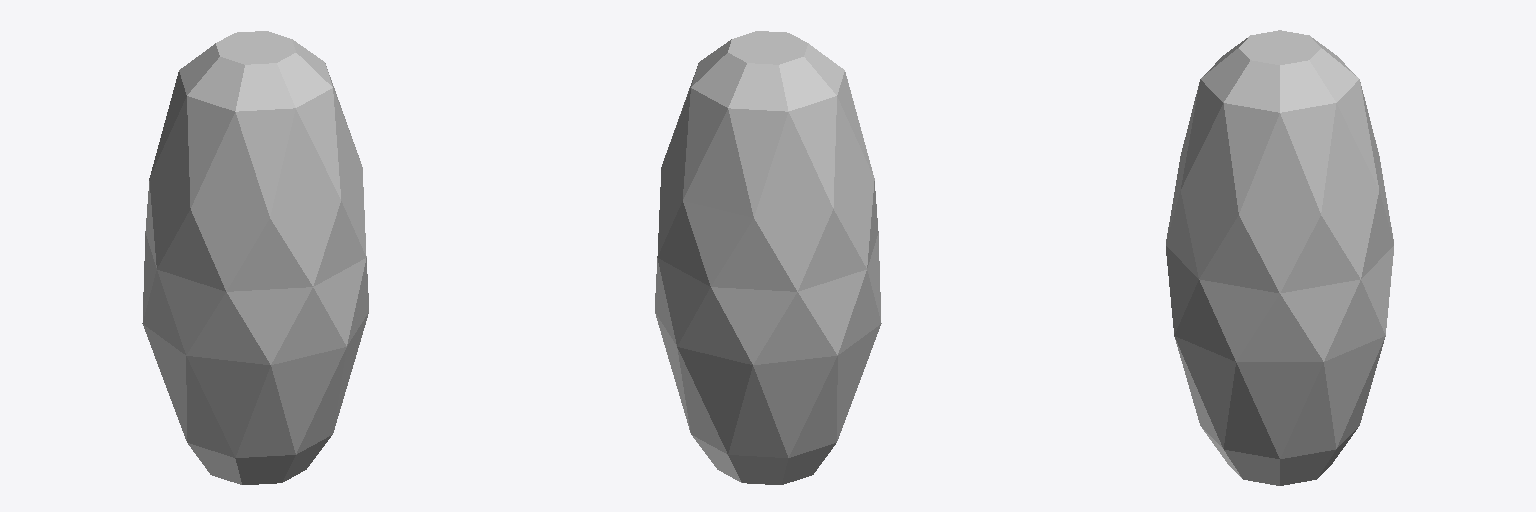
The model's file is SjoepennaFloorLampV17.obj.
3 renders of one model, left to right at view 1: azimuth 30°, elevation 25°; view 2: azimuth 150°, elevation 25°; view 3: azimuth 270°, elevation 25°, orthographic.
Visible parts, largest first — view 1: SjoepennaFloorLampV13.001; view 2: SjoepennaFloorLampV13.001; view 3: SjoepennaFloorLampV13.001.
Part boxes in pixels (x1,y1,x2,y2): SjoepennaFloorLampV13.001: (142, 31, 368, 484); SjoepennaFloorLampV13.001: (655, 31, 881, 484); SjoepennaFloorLampV13.001: (1166, 30, 1393, 485).
Bounding box in the file's own units: 431 × 865 × 431.